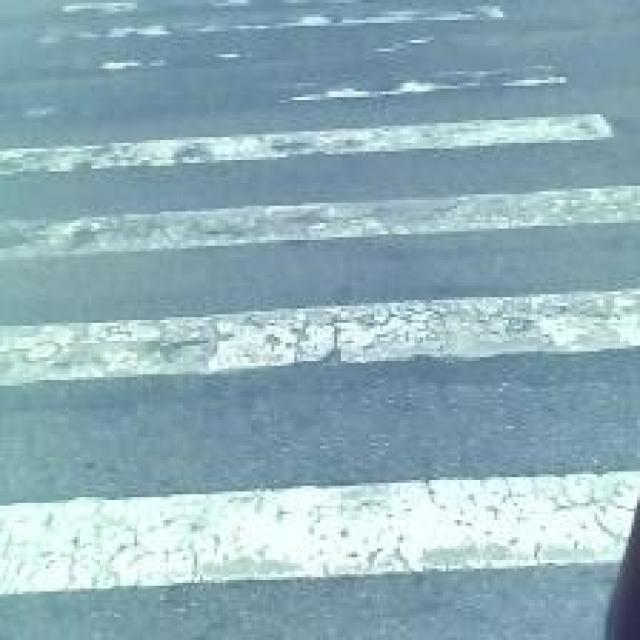walk-crossing: (49, 22, 577, 584)
